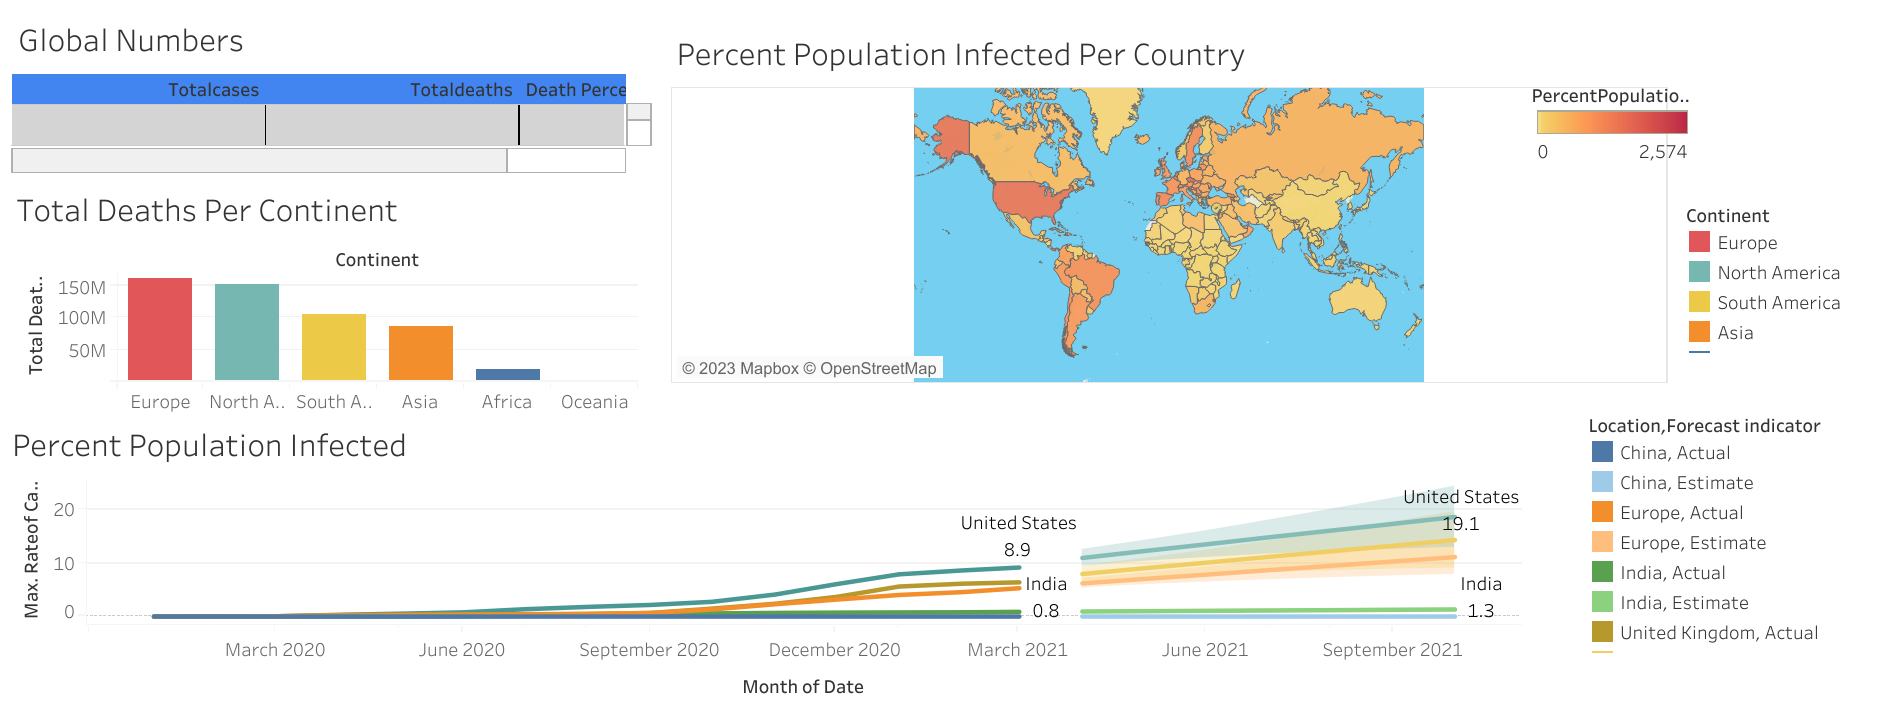

The dashboard page shown, as its layout file describes it:
{"tool":"tableau","page":{"name":"Dashboard 1","canvas":[1000,1000],"units":"permille","ordinal":0},"visuals":[{"type":"worksheet","title":"Sheet 1","mark":"Automatic","box":[6.2,13.7,340.4,230.8]},{"type":"worksheet","title":"Sheet 5","mark":"Automatic","box":[356.6,32.3,530.5,507.4]},{"type":"legend","title":"Sheet 5","param":"[federated.1g39w140isctzl1d0jwgx1um16eq].[sum:RateofCases:qk]","box":[814.2,105.5,87.3,124.1]},{"type":"worksheet","title":"Sheet 2","mark":"Automatic","rows":["TotalDeathCount"],"cols":["location"],"box":[5.6,250.6,332.9,332.5]},{"type":"legend","title":"Sheet 2","param":"[federated.09f230w1fe2jwh1dp4y7105rie0u].[none:location:nk]","box":[895.3,277.9,96.6,218.4]},{"type":"legend","title":"Sheet 4","param":"[federated.1g39w140isctzl1d0jwgx1um16eq].[none:Location:nk]\n[federated.1g39w140i","box":[843.5,574.4,157.7,342.4]},{"type":"worksheet","title":"Sheet 4","mark":"Automatic","rows":["RateofCases"],"cols":["Date"],"box":[3.1,581.9,805.5,415.6]}]}

Visuals, with their boxes on the dashboard's canvas, which has no fixed pixel size, in thousandths of its width and height (x1, y1, x2, y2). These are canvas units, not pixel positions in the 1880x710 screenshot, which may show the page scaled, cropped or inside an application window:
"Sheet 1" worksheet: 6,14,347,244
"Sheet 5" worksheet: 357,32,887,540
"Sheet 5" legend: 814,106,902,230
"Sheet 2" worksheet: 6,251,338,583
"Sheet 2" legend: 895,278,992,496
"Sheet 4" legend: 844,574,1001,917
"Sheet 4" worksheet: 3,582,809,998
